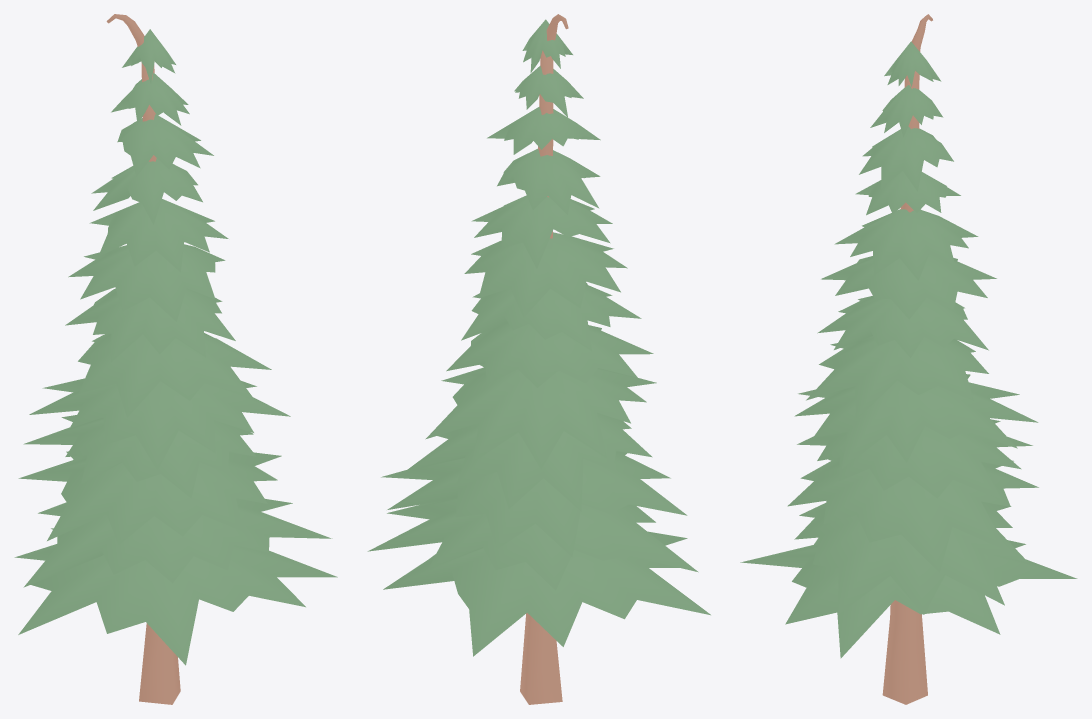
The model's file is Blender_Hemlock_2_Far.glb.
3 views of the same model, side by side, from view 1: azimuth 30°, elevation 25°; view 2: azimuth 150°, elevation 25°; view 3: azimuth 270°, elevation 25° (orthographic). The views are drawn at different scales.
Parts seen in each view (by area): view 1: Blender_Hemlock_2_Far; view 2: Blender_Hemlock_2_Far; view 3: Blender_Hemlock_2_Far.
Part boxes in pixels (left/top/right/bottom): Blender_Hemlock_2_Far: left=14, top=14, right=337, bottom=704; Blender_Hemlock_2_Far: left=367, top=14, right=710, bottom=704; Blender_Hemlock_2_Far: left=740, top=14, right=1077, bottom=704.
Size of the model in its own units: 17.33 by 37.67 by 17.34.
